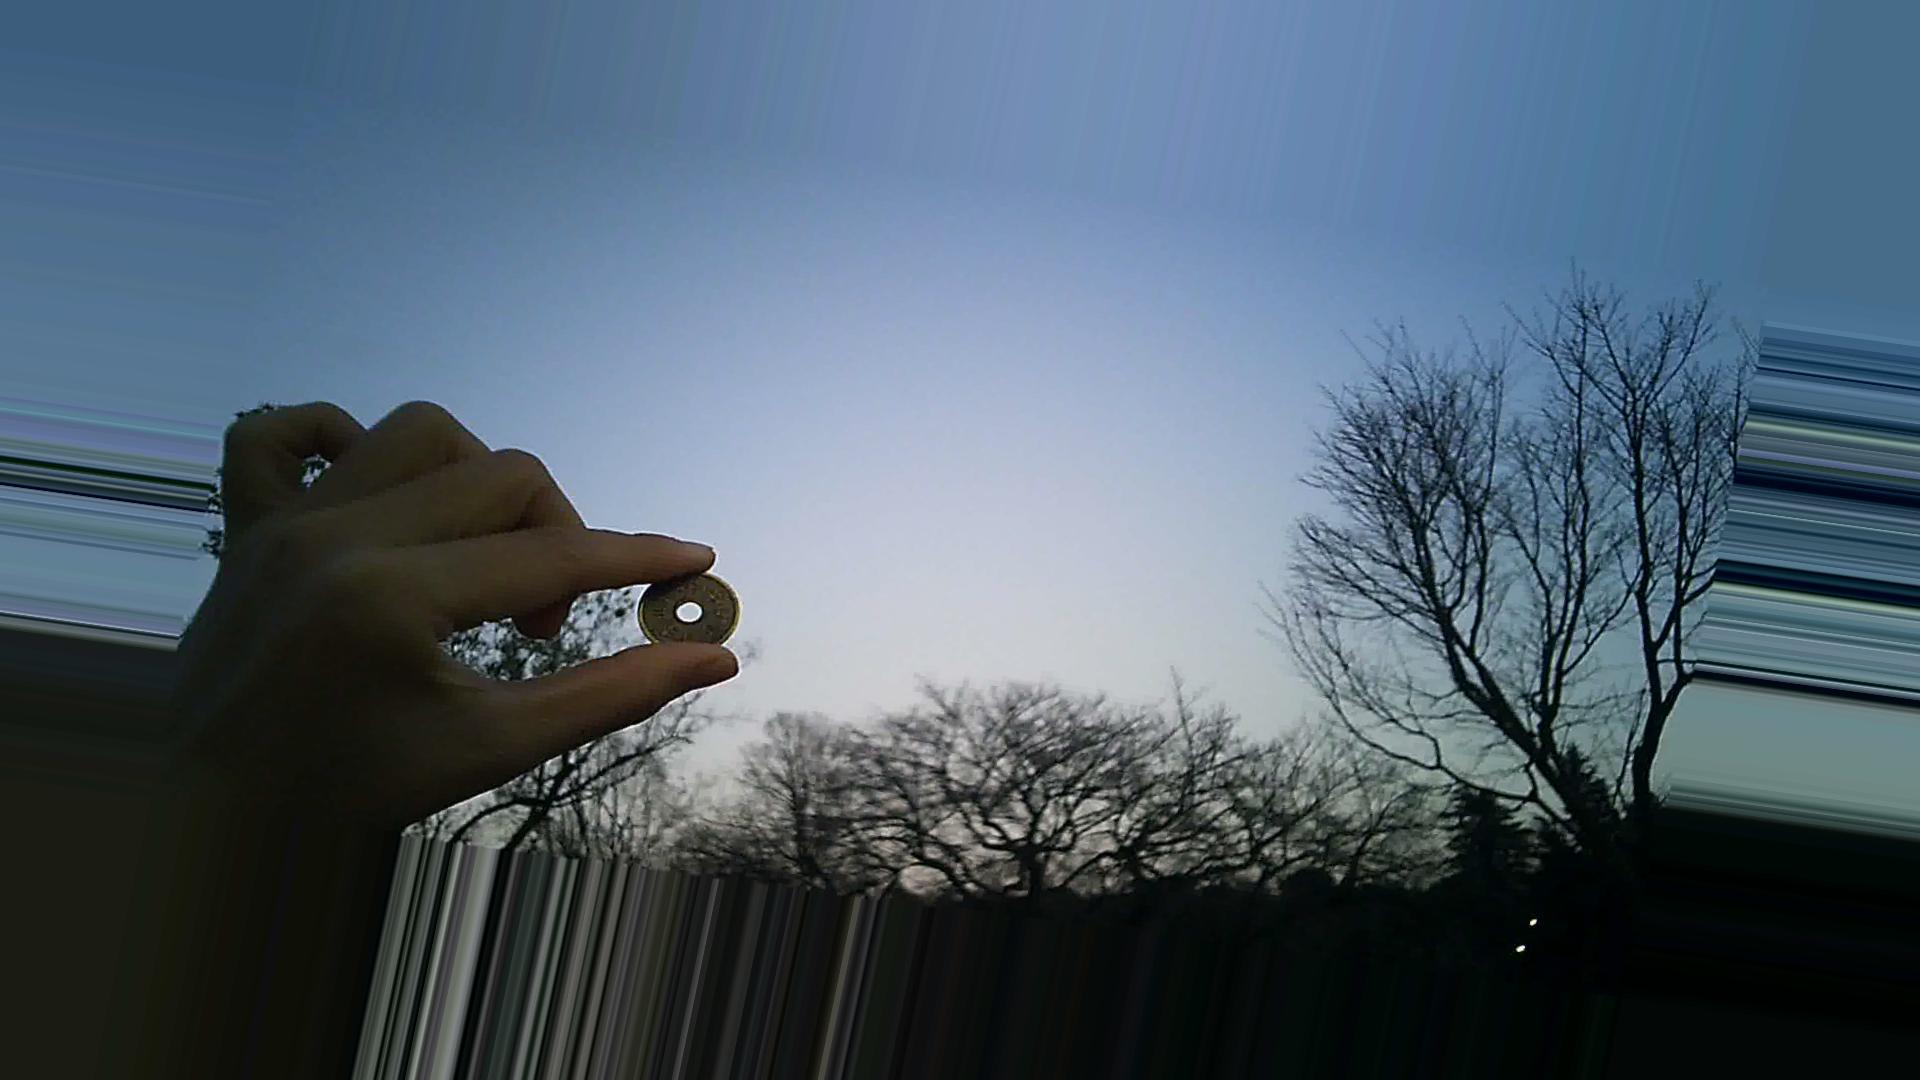5 Yen: (625, 571, 737, 662)
